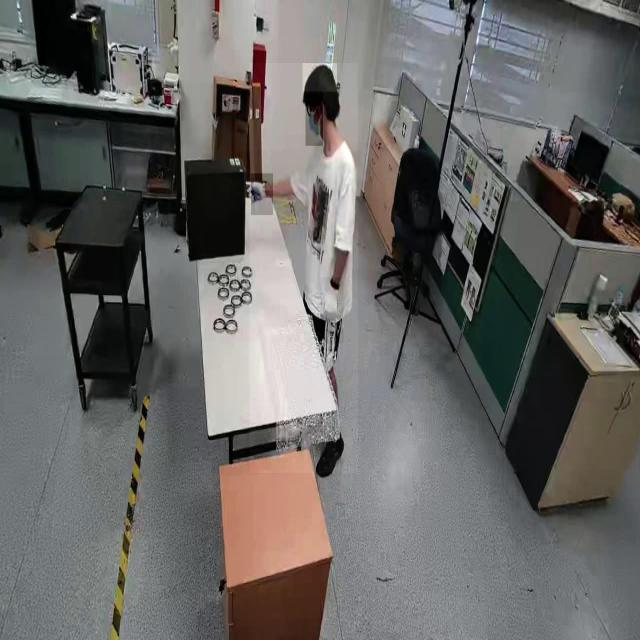face_mask: (305, 93, 323, 146)
hand_glove: (320, 277, 344, 344), (251, 173, 273, 215)
head_nohelmet: (302, 63, 338, 93)
person: (250, 63, 358, 474)
shoes: (314, 427, 345, 477)
